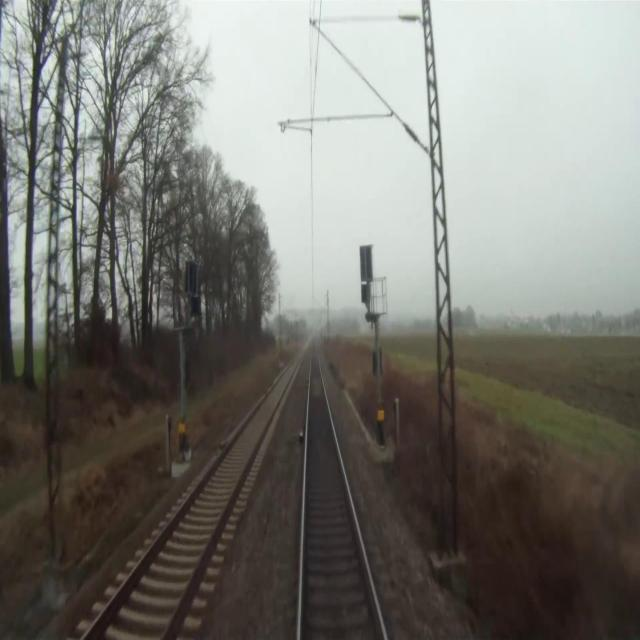rail-track: (86, 356, 299, 639), (302, 359, 383, 639)
